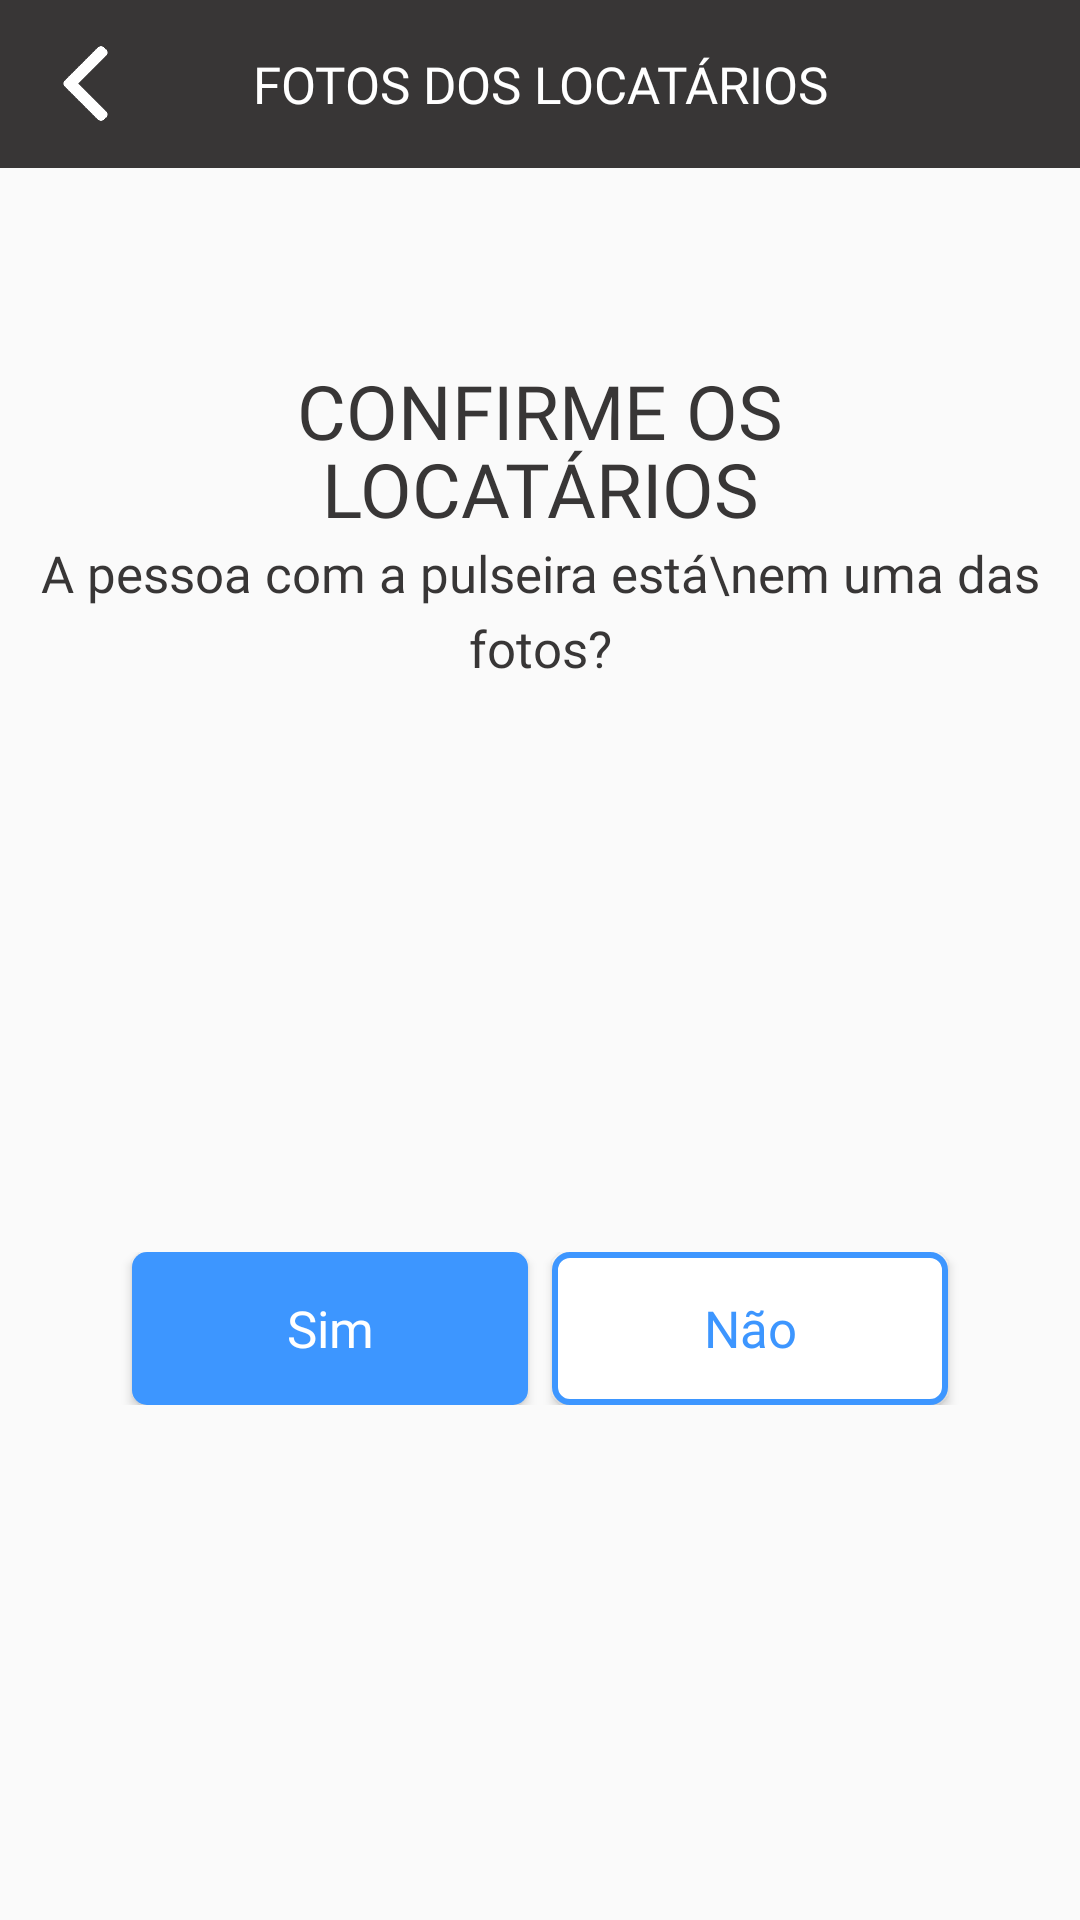

Where to tap for icons on this 1080px×1920px app screen, as [x,y]:
left arrow: [85,83]
